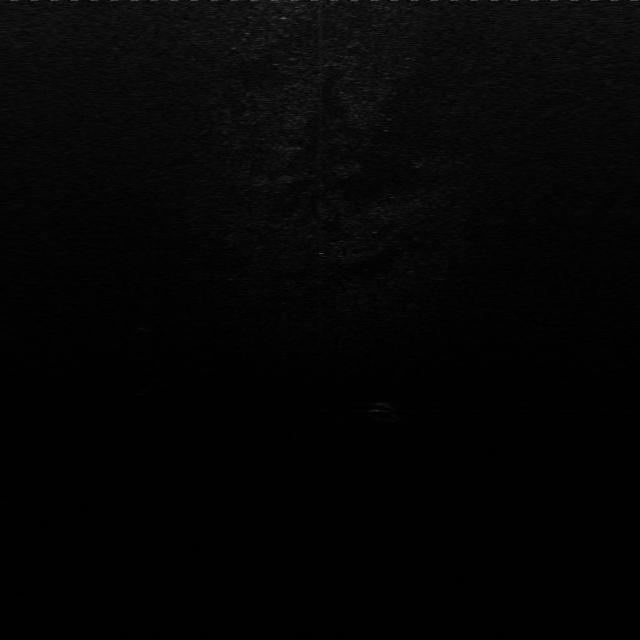tyre: (359, 398, 403, 427)
